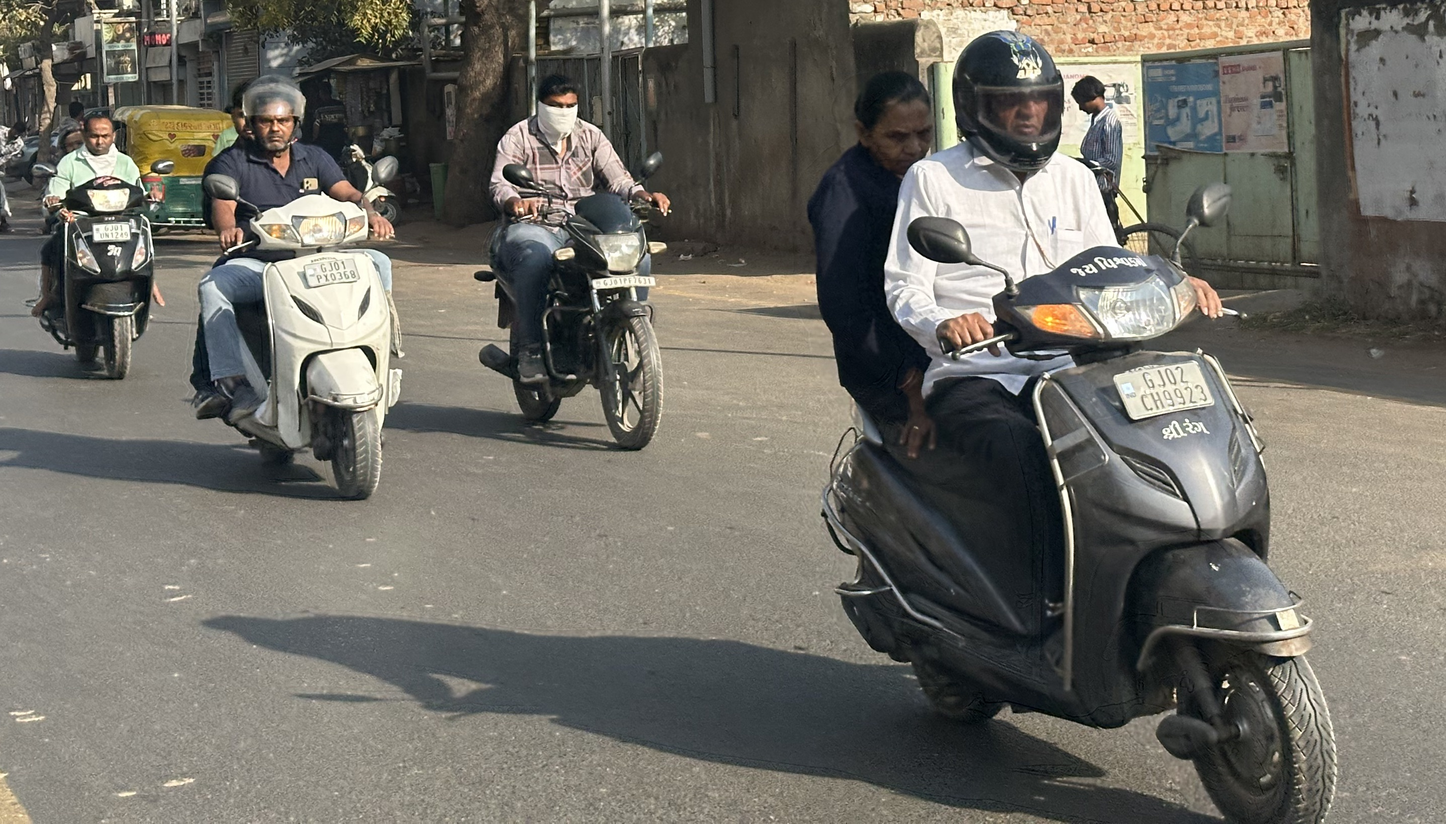BikeWithRider: (792, 20, 1353, 824), (176, 70, 420, 507), (462, 63, 690, 455), (18, 102, 177, 394)
Helmet: (937, 21, 1072, 176), (238, 73, 314, 156)
NoHelmet: (840, 64, 949, 184), (526, 70, 591, 147), (217, 80, 283, 155), (74, 106, 131, 162), (55, 119, 95, 168)
